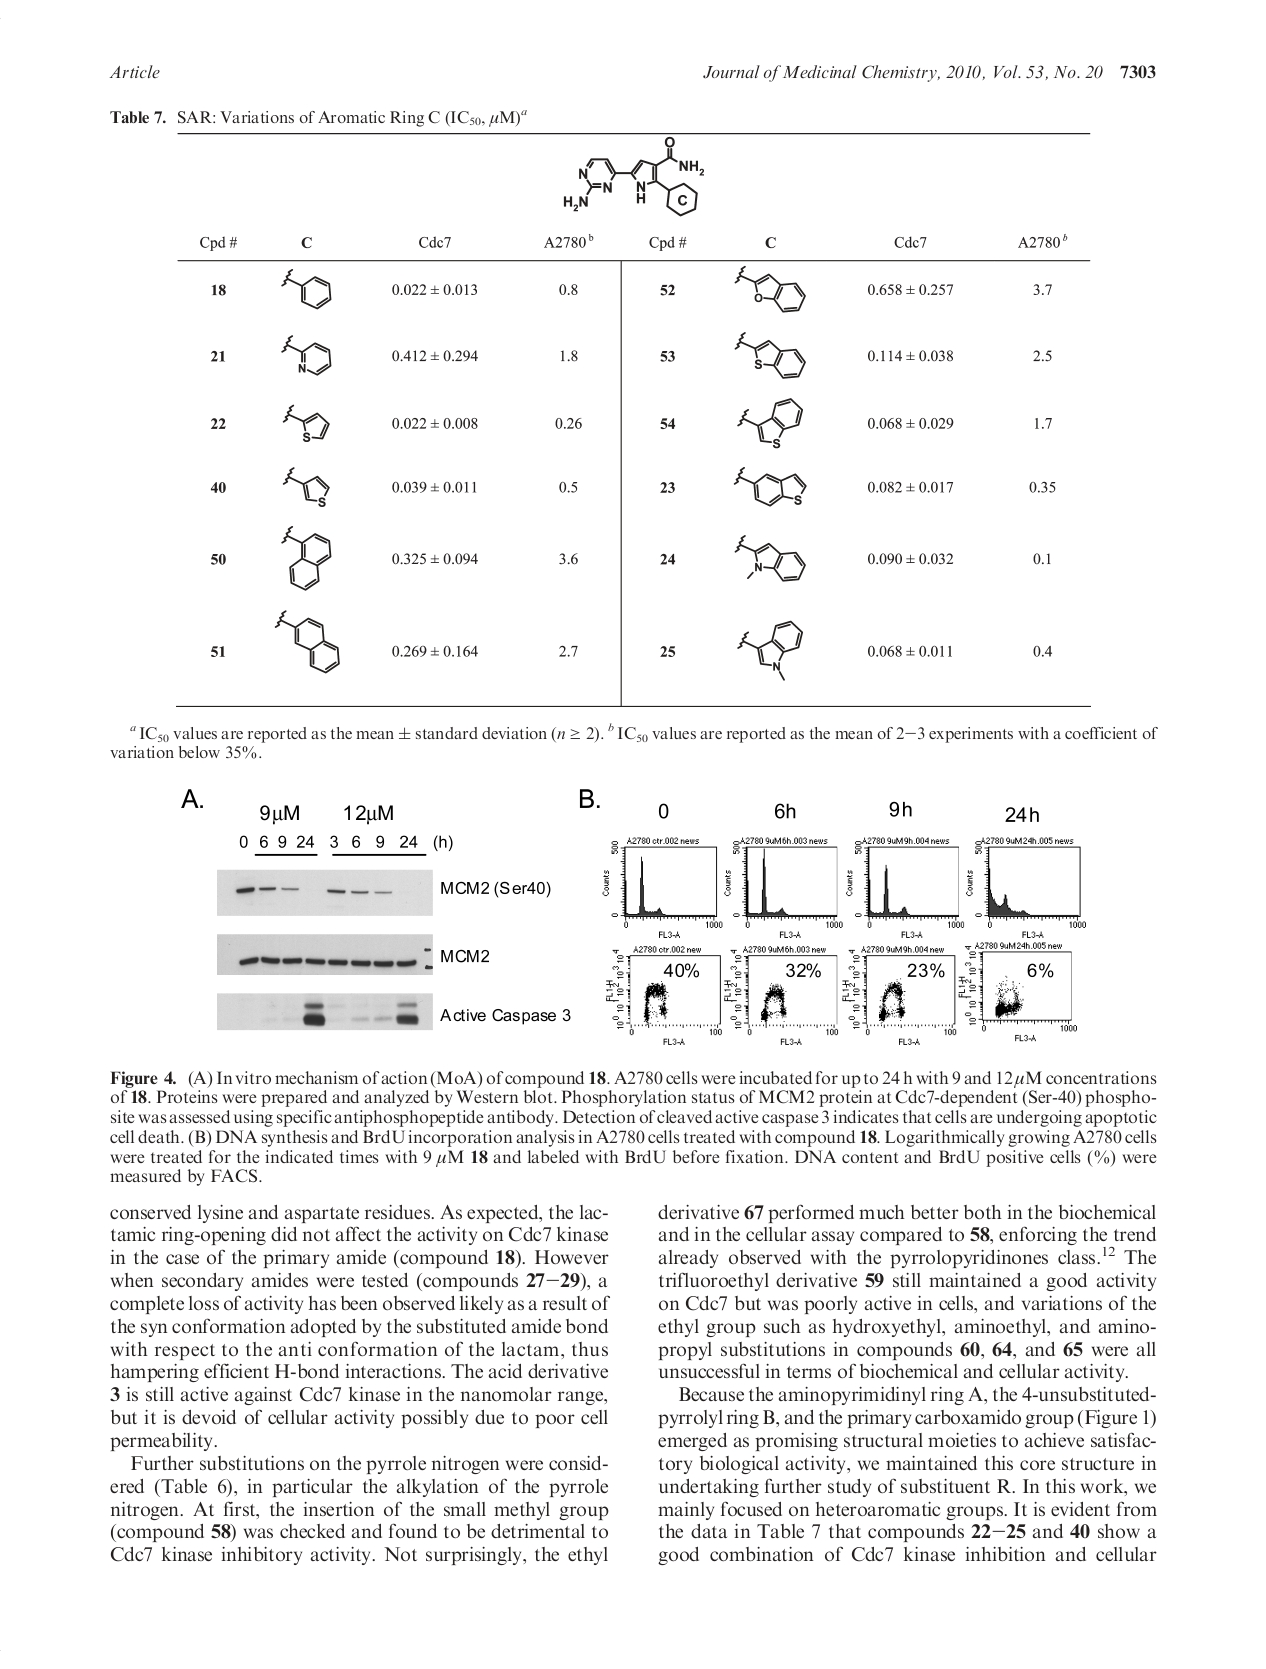exist_molecular: (561, 137, 707, 219), (273, 608, 342, 676), (734, 618, 805, 684), (731, 328, 809, 378), (734, 265, 807, 315), (733, 533, 807, 582), (281, 523, 332, 592), (737, 398, 805, 449), (731, 464, 809, 508), (278, 266, 335, 311), (281, 334, 332, 378), (281, 465, 332, 508), (282, 403, 330, 443)
